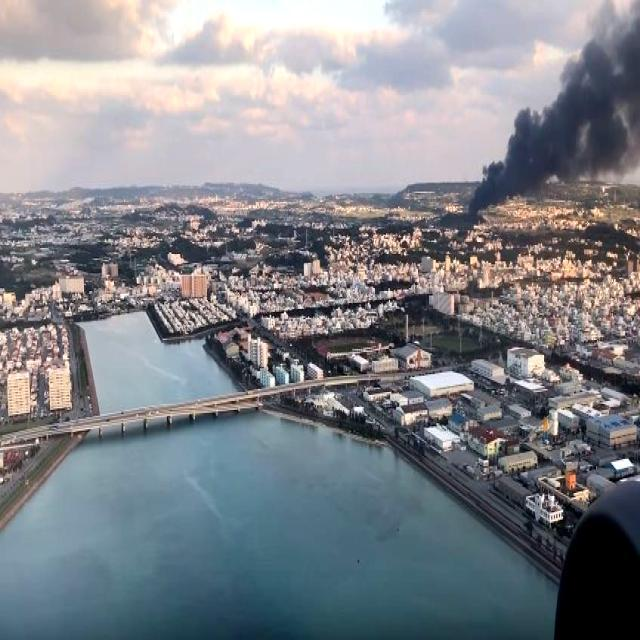Smoke: (470, 14, 640, 209)
